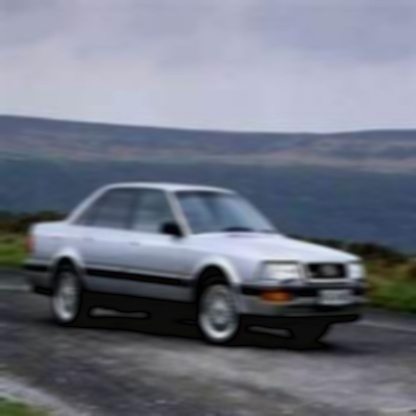Vehicle: (26, 181, 369, 346)
